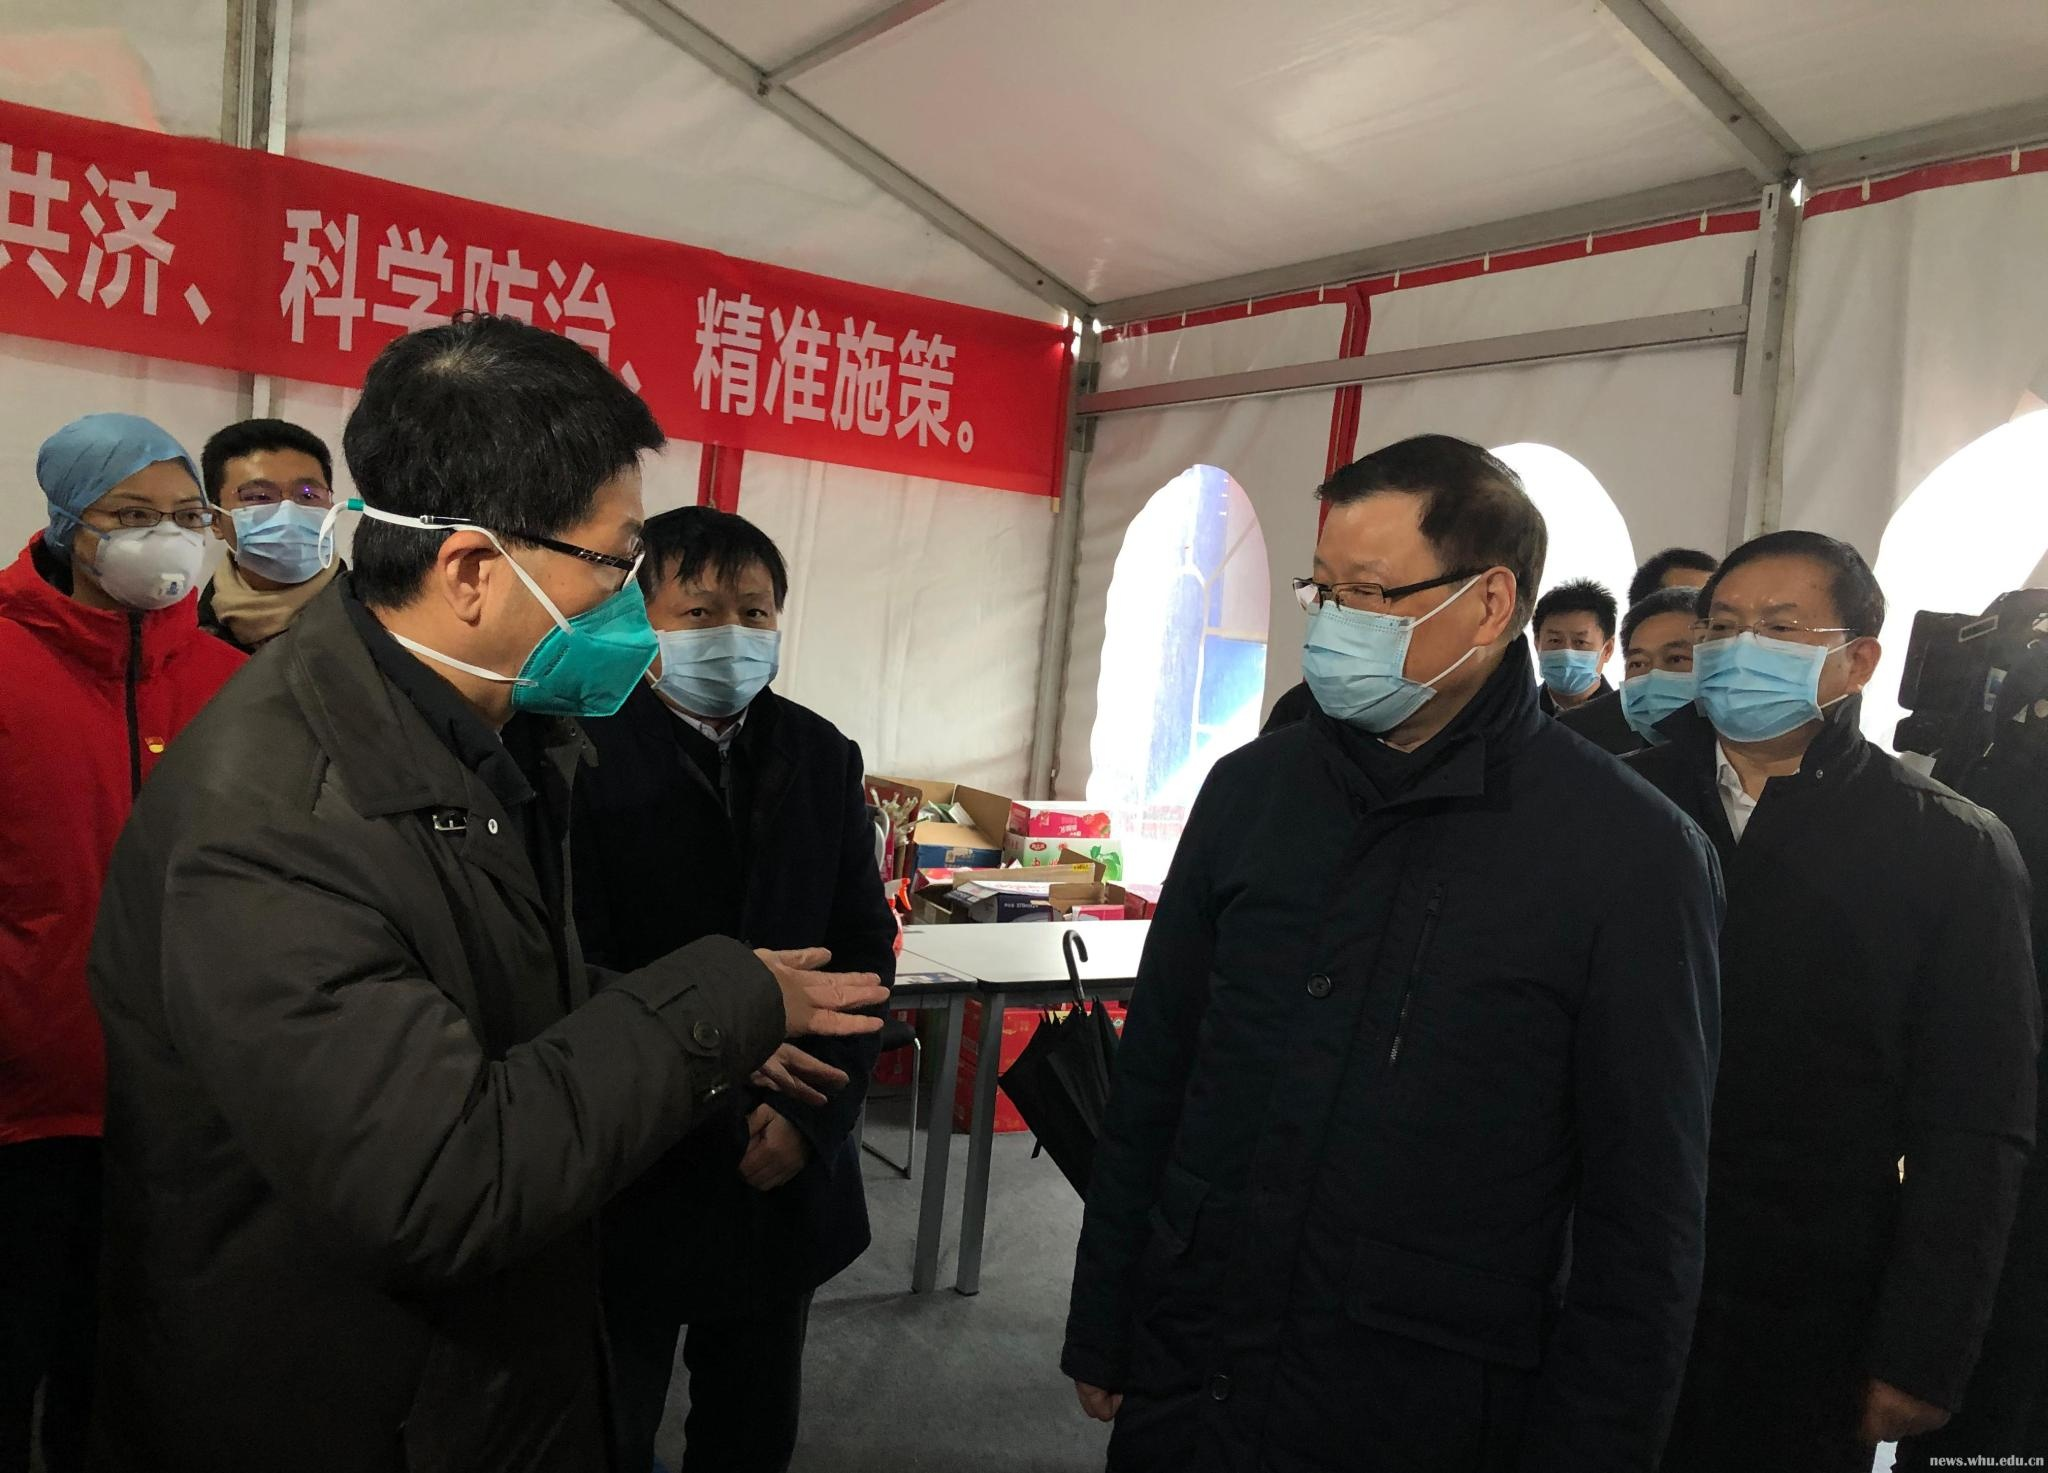correctlyWear: (361, 441, 646, 722), (1291, 519, 1515, 733), (1690, 589, 1887, 744), (49, 468, 211, 614), (644, 571, 785, 722), (199, 464, 336, 587), (1620, 627, 1724, 752), (1533, 609, 1611, 703)
